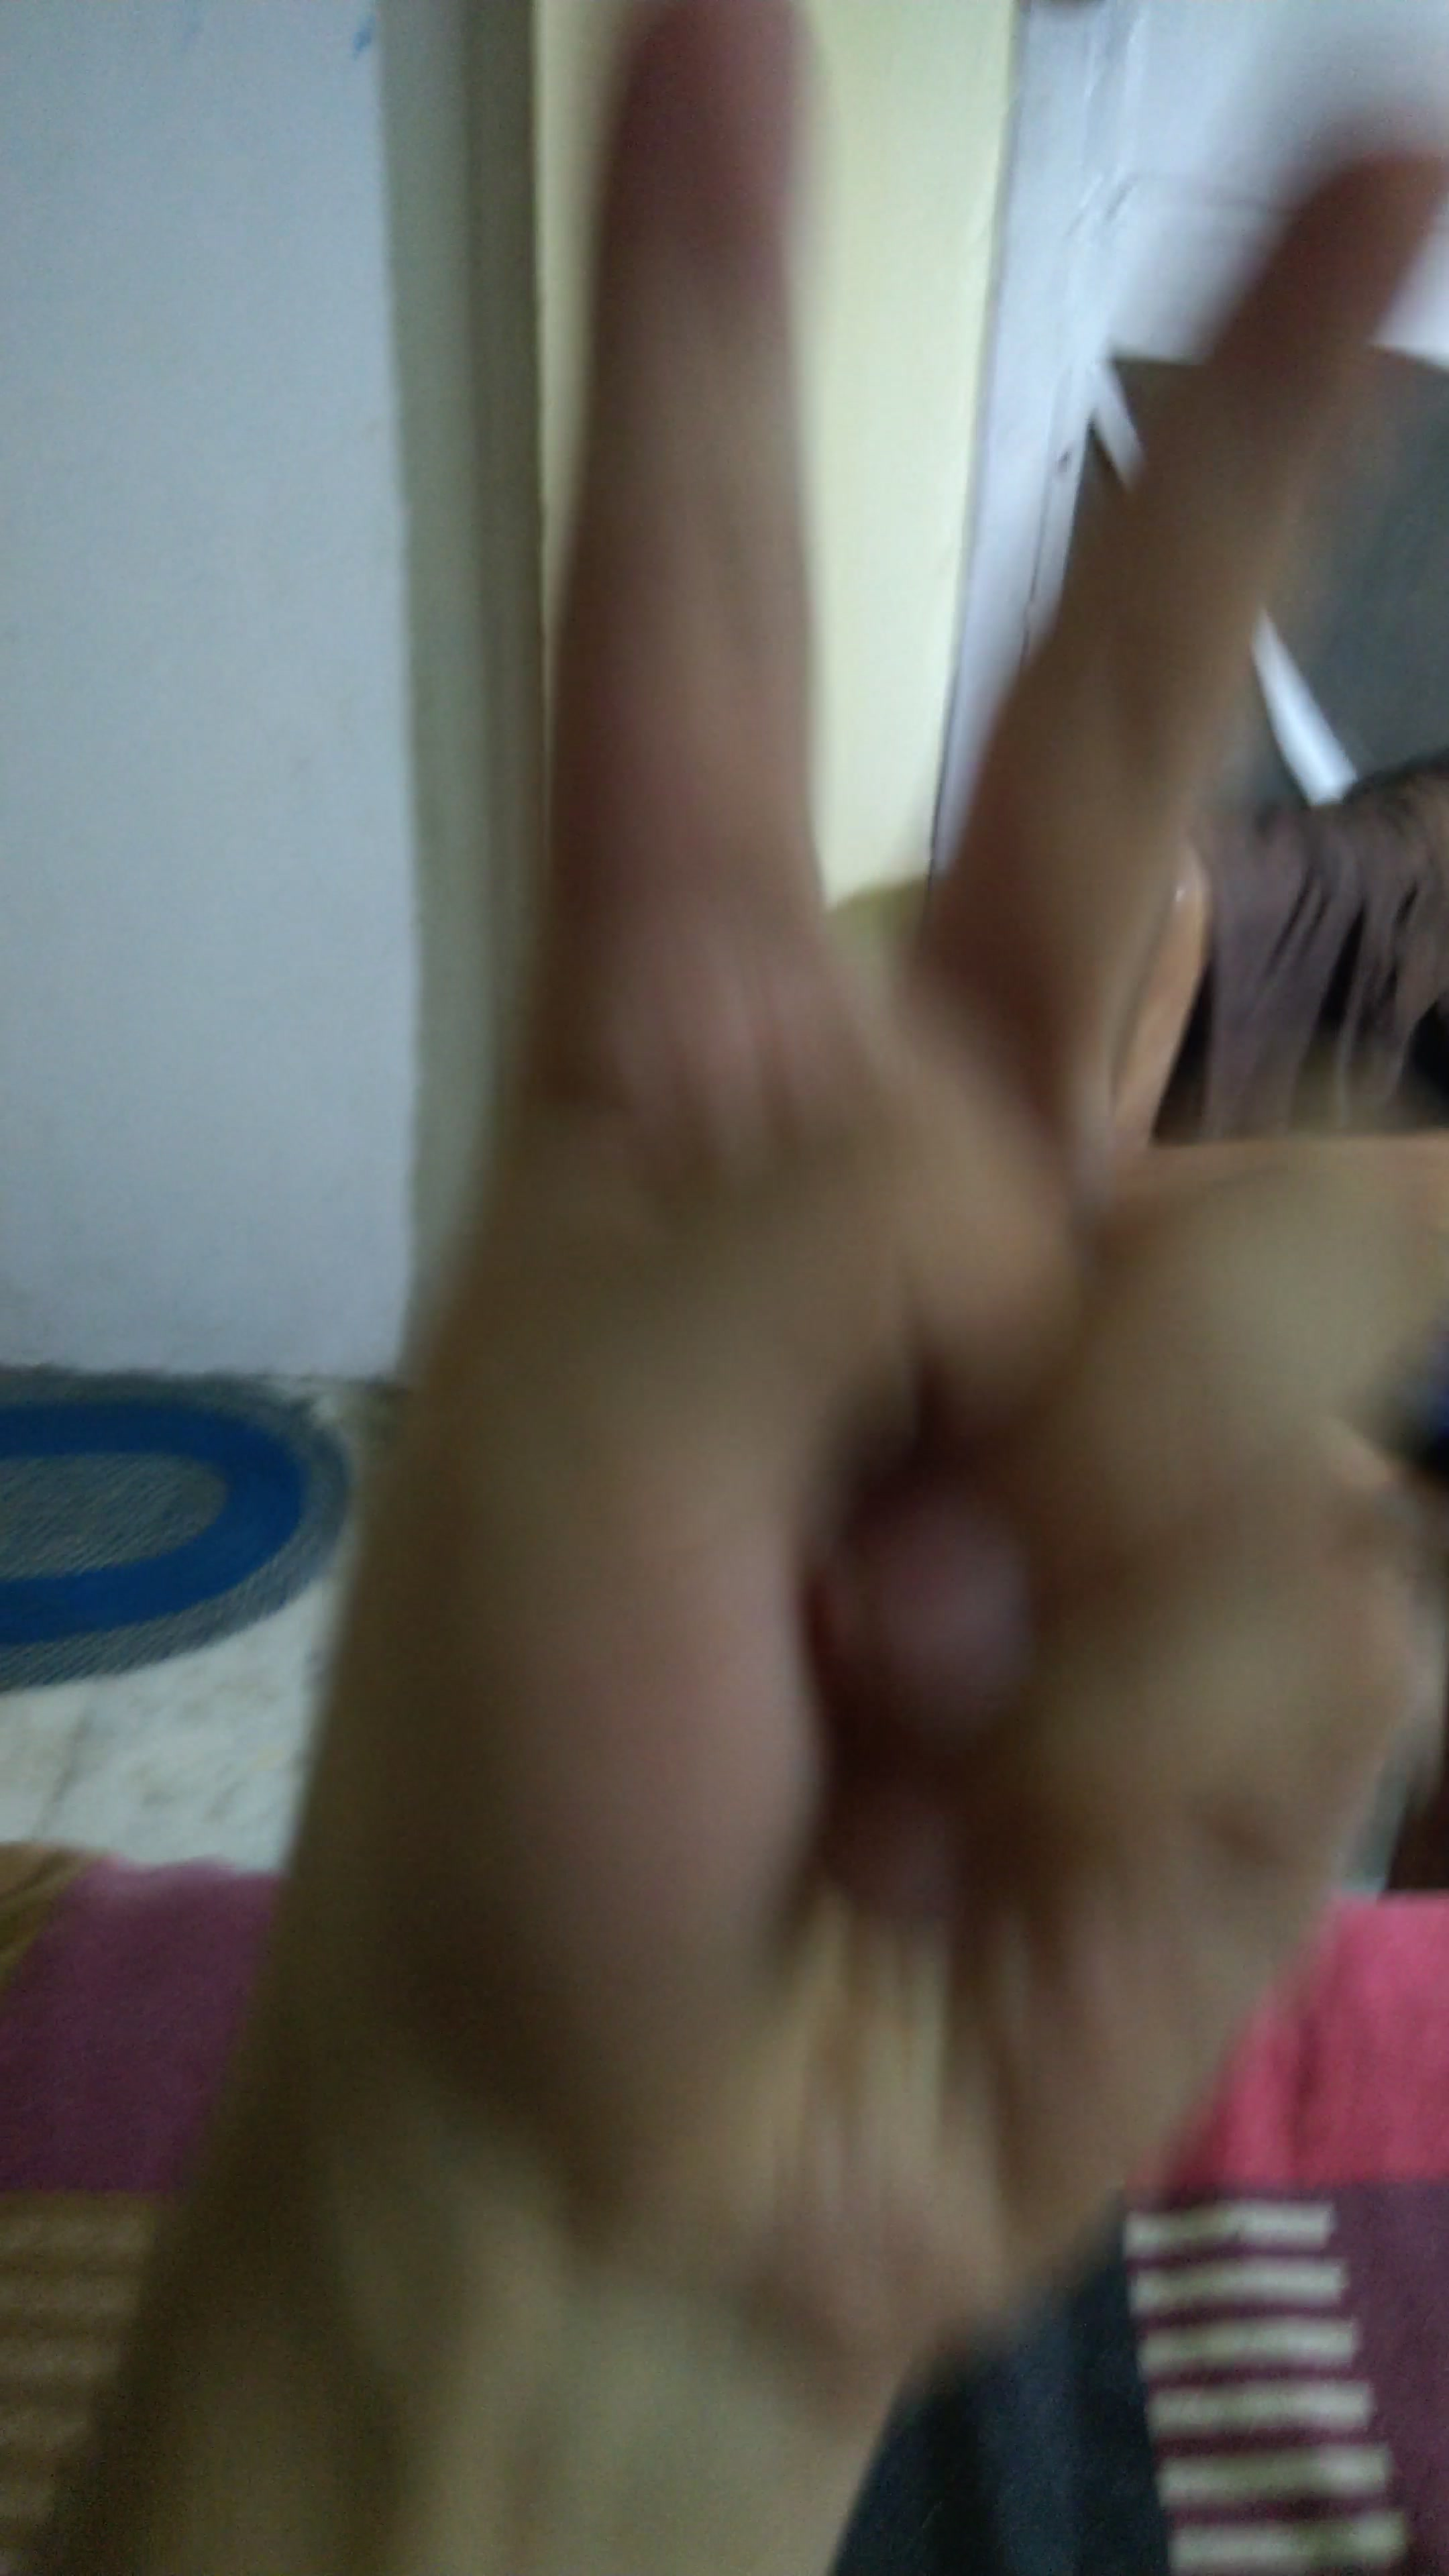hand: (211, 27, 1438, 2376)
